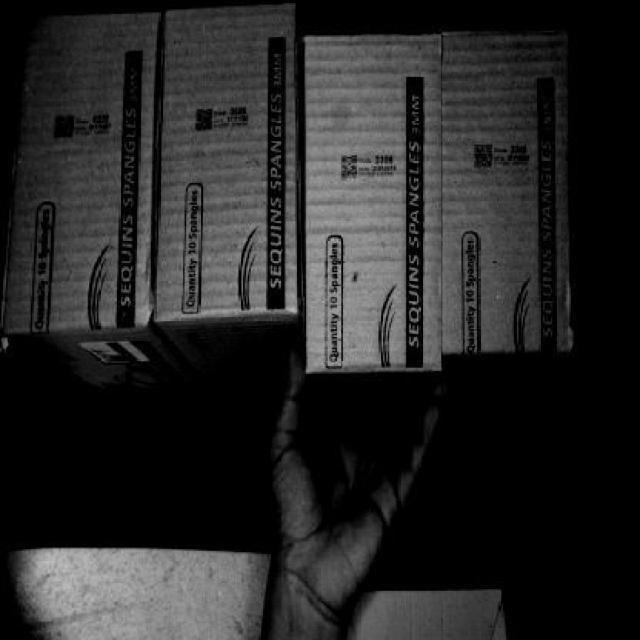box: (167, 8, 296, 314), (31, 20, 152, 329)
